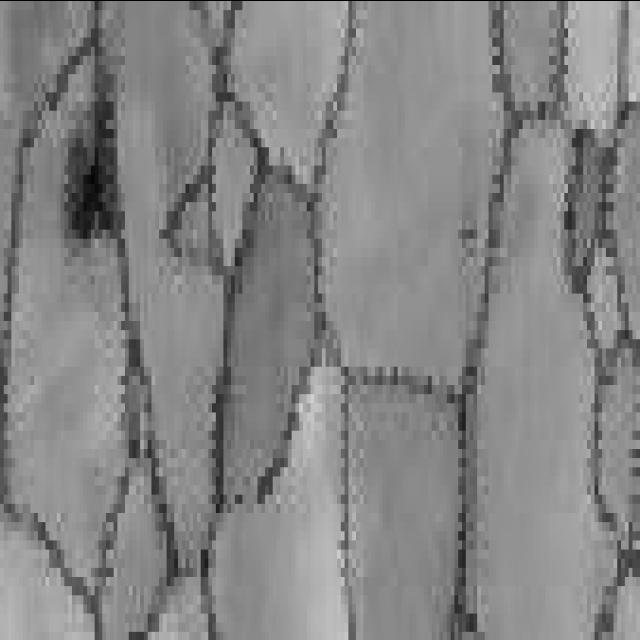good_void: (59, 89, 125, 253)
